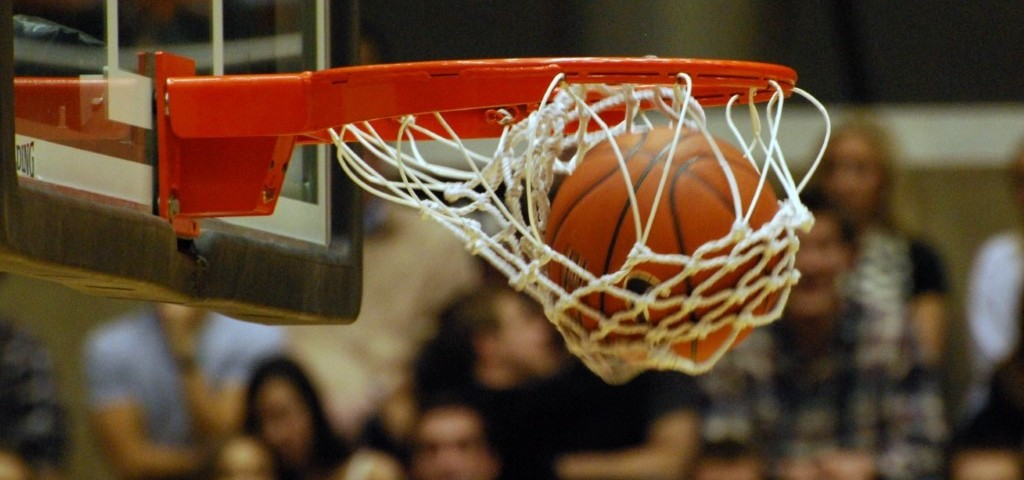basketball: (547, 121, 788, 370)
